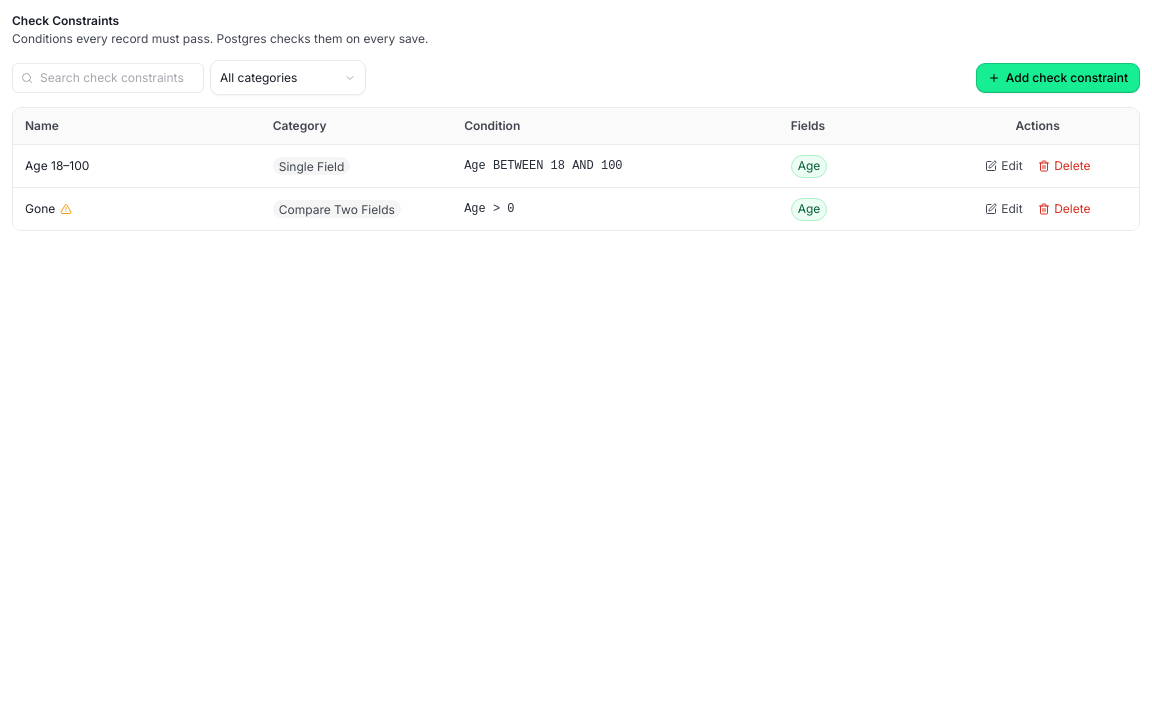
Test case: CheckConstraintsPanel › shows why a delete failed
The image size is (1152, 720).
Click the button with aria-label "Delete Age 18–100" at (1064, 166), box [1032,154,1097,178]
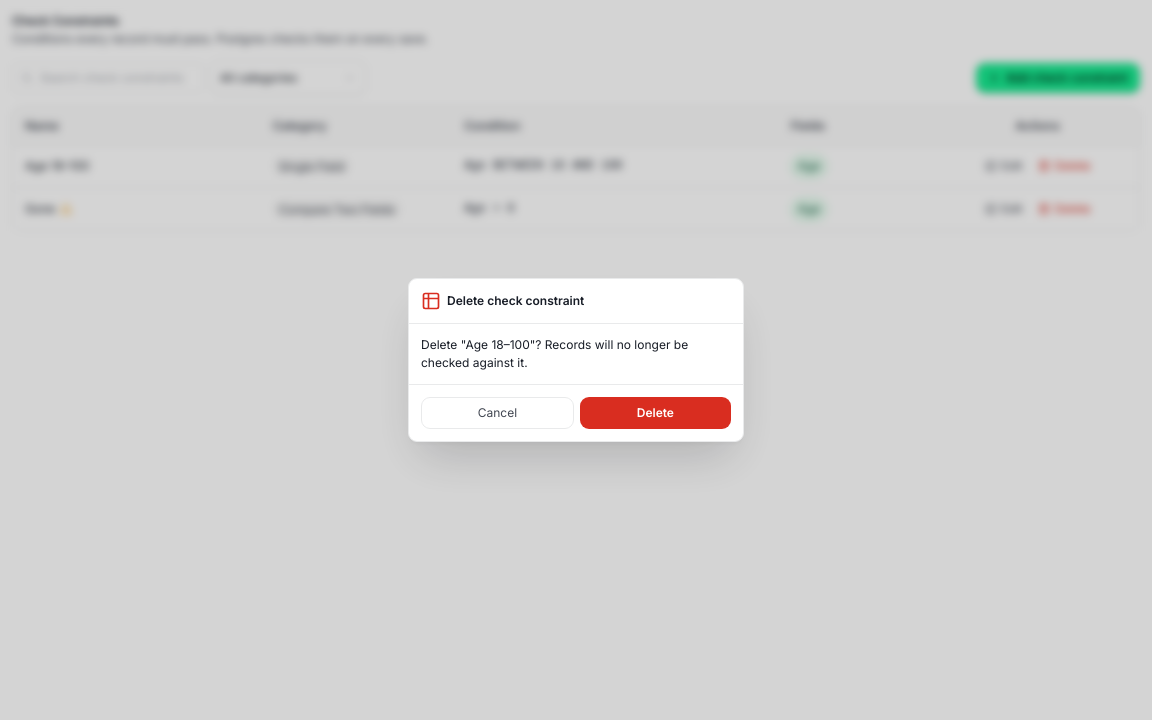
Click the button "Delete" at (655, 413), box [580,397,731,429]
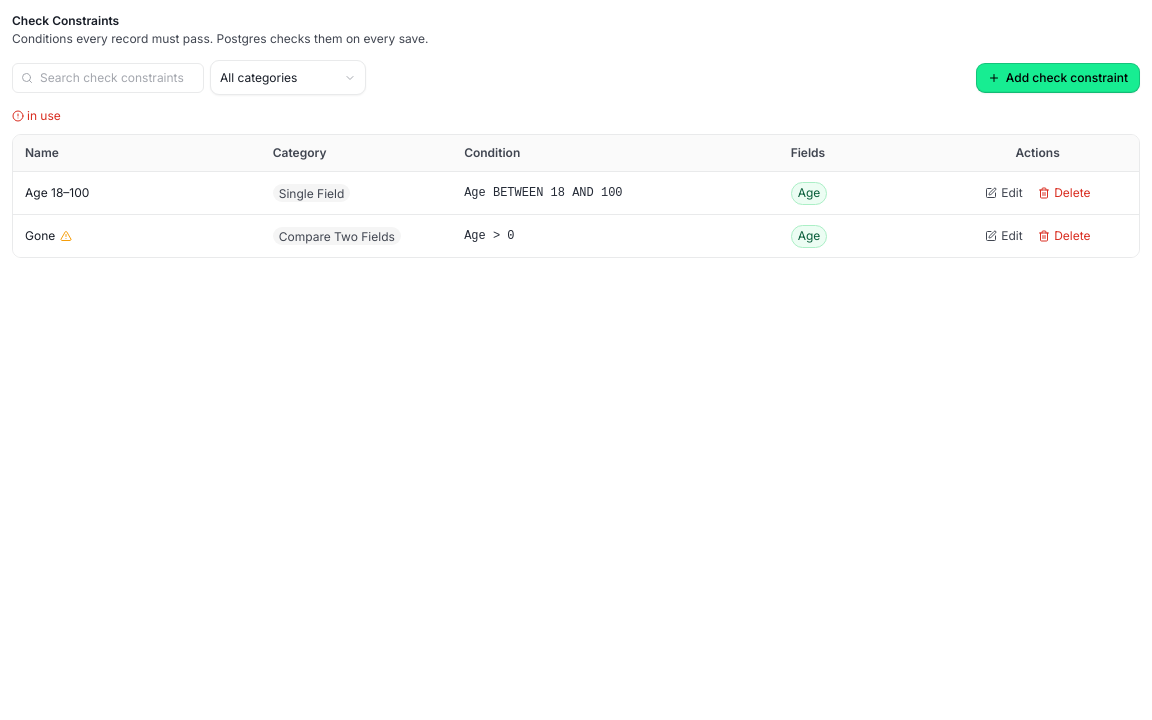
Check: the text "in use" is shown, box [27,107,61,125]
